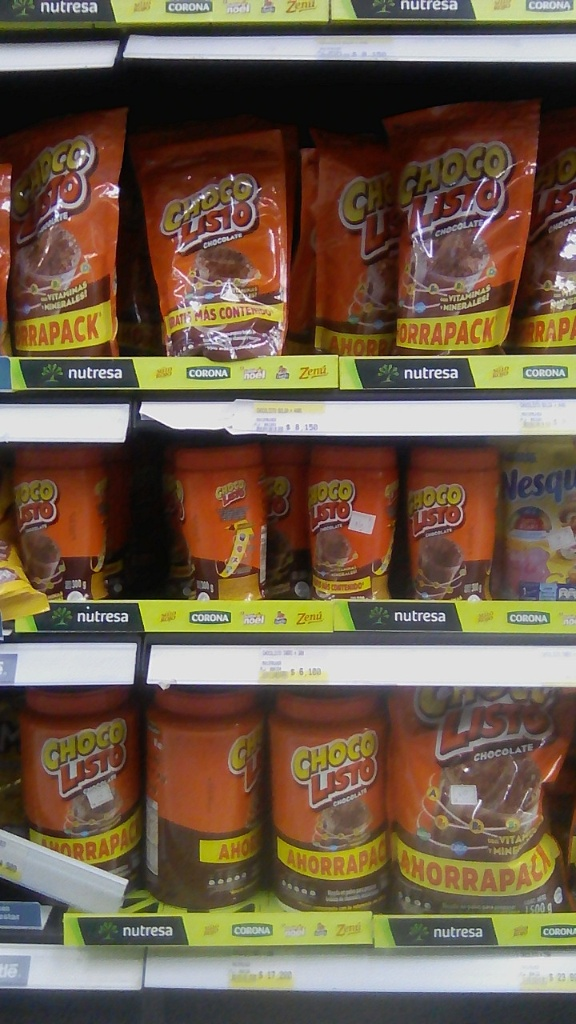COL0170103DYP1,500: (392, 681, 573, 913)
COL0170103DYP40000: (384, 108, 539, 356)
COL0170103TRR00100: (268, 685, 395, 912)
COL0170103TRR30000: (403, 444, 502, 601)
COL0170305DYP20000: (501, 437, 575, 602)
